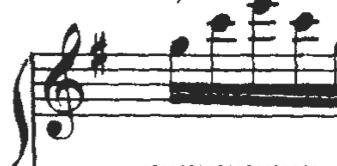sharp: (86, 24, 110, 80)
treble_clef: (35, 14, 88, 148)
